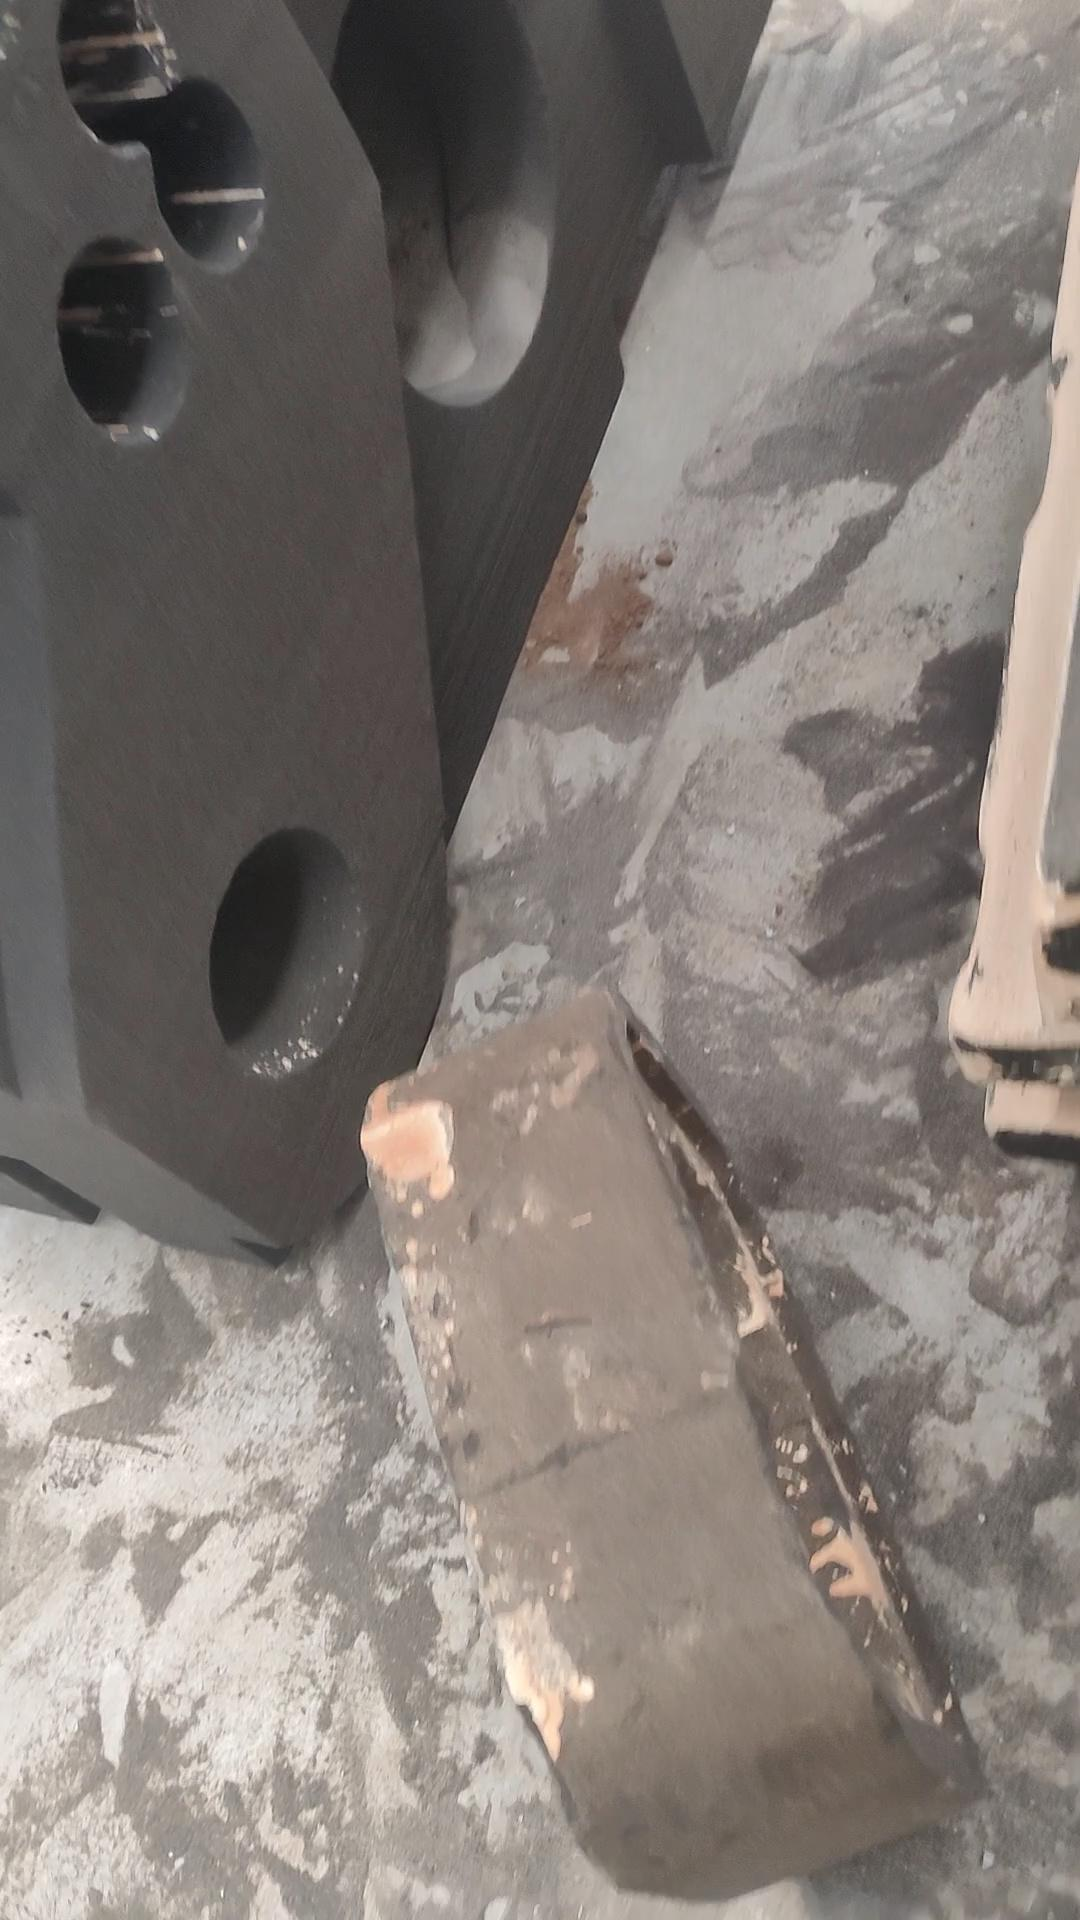pouring hole: (208, 827, 368, 1072)
